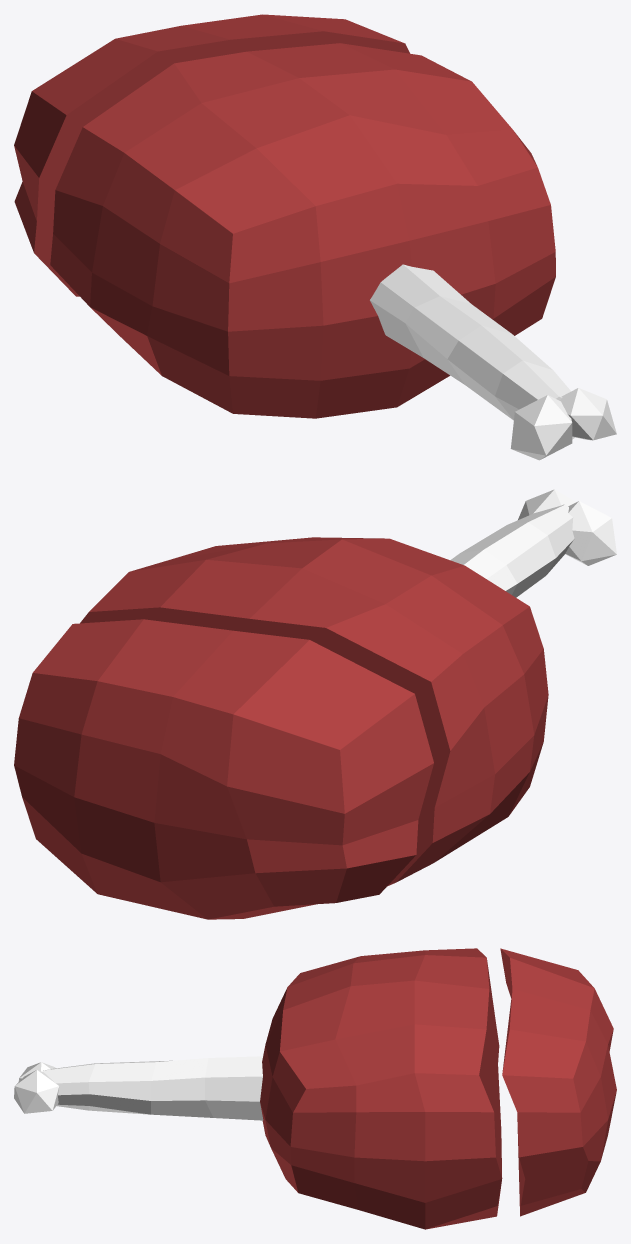
The model's file is goat_leg_chop_1.glb.
3 views of the same model, one above another, from view 1: azimuth 30°, elevation 25°; view 2: azimuth 150°, elevation 25°; view 3: azimuth 270°, elevation 25° (orthographic). The views are drawn at different scales.
Visible parts, largest first — view 1: Meat; view 2: Meat; view 3: Meat.
Part boxes in pixels (bbox=[...]): Meat: bbox=[14, 14, 616, 460]; Meat: bbox=[14, 489, 616, 919]; Meat: bbox=[14, 948, 616, 1229].
Size of the model in its own units: 0.108 by 0.0753 by 0.193.
